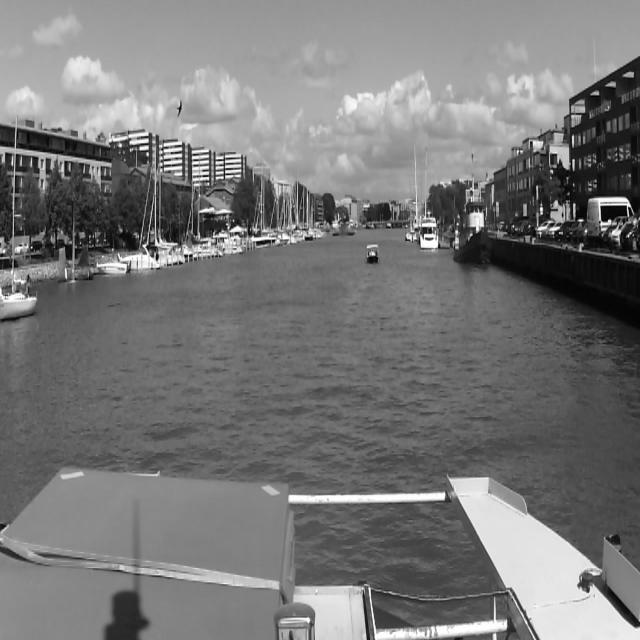ship: (3, 102, 36, 323), (138, 138, 184, 266), (182, 156, 224, 258), (198, 161, 242, 255), (453, 190, 493, 264), (246, 168, 276, 248), (265, 179, 296, 245), (116, 247, 160, 272), (296, 181, 312, 242), (420, 214, 439, 249), (330, 224, 356, 236), (403, 225, 418, 242), (366, 245, 378, 263)
